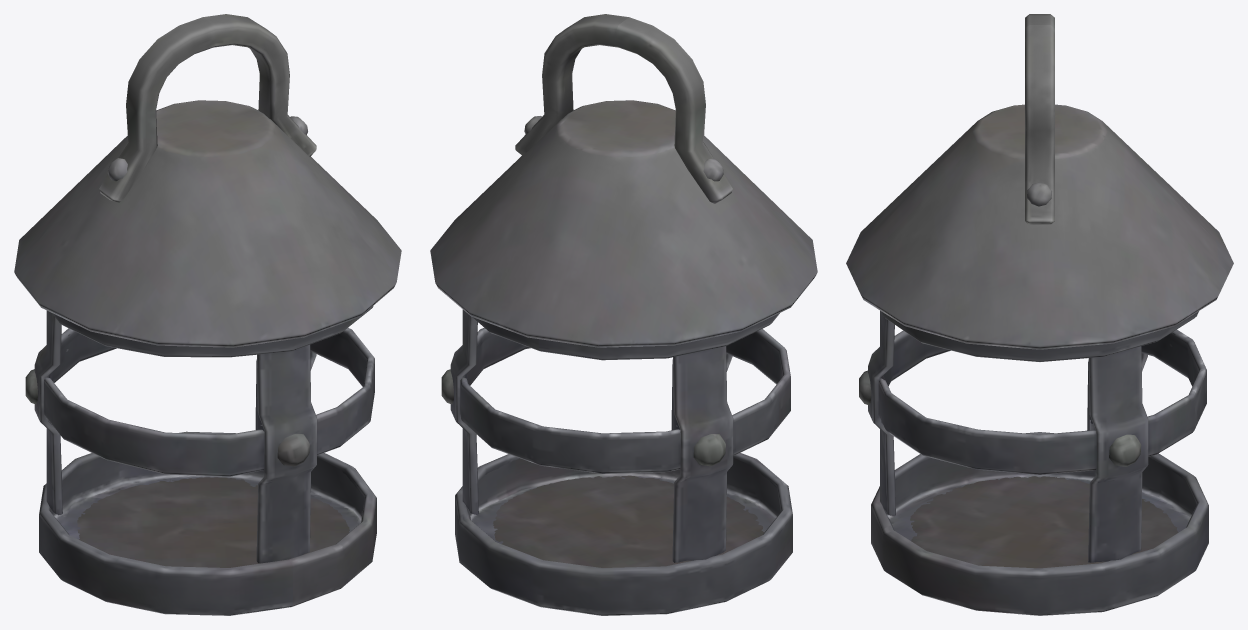
3 views of the same model, side by side, from view 1: azimuth 30°, elevation 25°; view 2: azimuth 150°, elevation 25°; view 3: azimuth 270°, elevation 25° (orthographic).
Parts seen in each view (by area): view 1: SM_Standing_Lantern_01_LOD0; view 2: SM_Standing_Lantern_01_LOD0; view 3: SM_Standing_Lantern_01_LOD0.
Part boxes in pixels (left/top/right/bottom): SM_Standing_Lantern_01_LOD0: left=14, top=14, right=401, bottom=615; SM_Standing_Lantern_01_LOD0: left=430, top=14, right=817, bottom=615; SM_Standing_Lantern_01_LOD0: left=846, top=14, right=1233, bottom=615.
Bounding box in the file's own units: 0.3149 × 0.4679 × 0.3149.
1 material, 1 textured.
